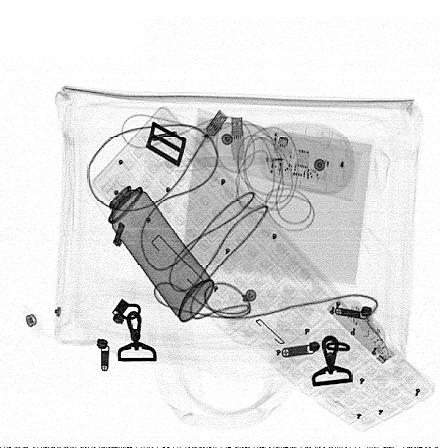Sprayer: (88, 159, 214, 323)
